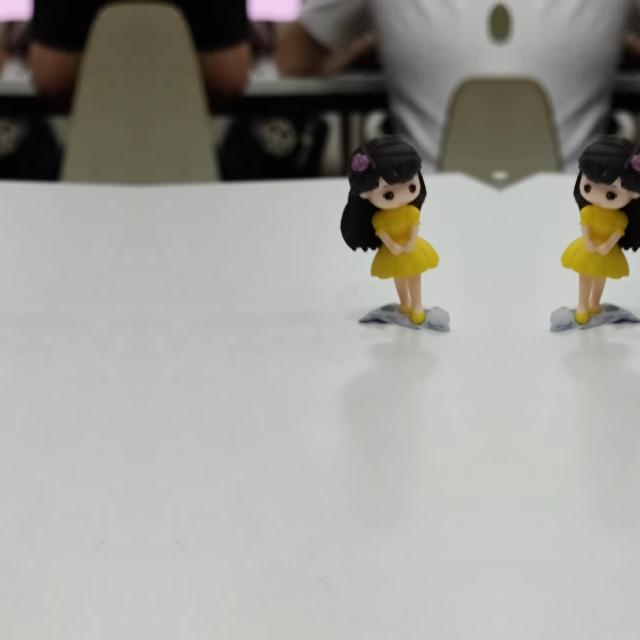woman head: (354, 135, 426, 213), (573, 135, 640, 213)
